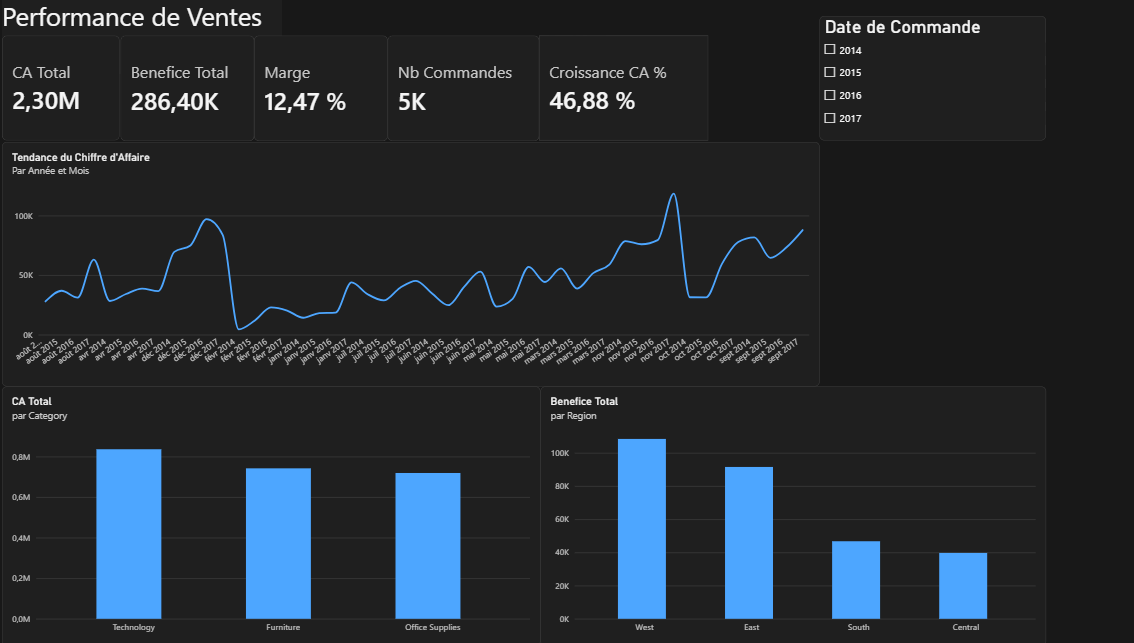

What the dashboard file says about the page in this screenshot:
{"tool":"powerbi","page":{"name":"Vue d'Ensemble","canvas":[1920,1080],"ordinal":0},"visuals":[{"type":"textbox","box":[10,0,466.7,126.7],"z":0},{"type":"cardVisual","fields":{"Data":["Sample - Superstore.CA Total"]},"box":[10,63.3,196.7,175],"z":1000},{"type":"cardVisual","fields":{"Data":["Sample - Superstore.Benefice Total"]},"box":[206.7,63.3,223.3,176.7],"z":2000},{"type":"cardVisual","fields":{"Data":["Sample - Superstore.Marge"]},"box":[430,63.3,223.3,176.7],"z":3000},{"type":"cardVisual","fields":{"Data":["Sample - Superstore.Nb Commandes"]},"box":[653.3,63.3,253.3,176.7],"z":4000},{"type":"lineChart","title":"Tendance du Chiffre d''Affaire","fields":{"Category":["Calendrier.AnnéeMois"],"Y":["Sample - Superstore.CA Total"]},"box":[10,240,1362.5,407.5],"z":5000},{"type":"columnChart","fields":{"Category":["Sample - Superstore.Category"],"Y":["Sample - Superstore.CA Total"]},"box":[10,647.5,897.5,432.5],"z":6000},{"type":"columnChart","fields":{"Category":["Sample - Superstore.Region"],"Y":["Sample - Superstore.Benefice Total"]},"box":[907.5,647.5,842.5,432.5],"z":7000},{"type":"slicer","fields":{"Values":["Calendrier.Année"]},"box":[1372.5,30,377.5,207.5],"z":8000},{"type":"cardVisual","fields":{"Data":["Sample - Superstore.Croissance CA %"]},"box":[905,62.5,282.5,175],"z":9000}]}

Visuals, with their boxes in screenshot pixels (x1, y1, x2, y2), scaled from the page's 1920x1080 canvas onto the 1134x643 screenshot:
textbox: box(6, 0, 282, 75)
cardVisual - Sample - Superstore.CA Total: box(6, 38, 122, 142)
cardVisual - Sample - Superstore.Benefice Total: box(122, 38, 254, 143)
cardVisual - Sample - Superstore.Marge: box(254, 38, 386, 143)
cardVisual - Sample - Superstore.Nb Commandes: box(386, 38, 535, 143)
"Tendance du Chiffre d''Affaire" lineChart: box(6, 143, 811, 386)
columnChart - Sample - Superstore.Category x Sample - Superstore.CA Total: box(6, 386, 536, 642)
columnChart - Sample - Superstore.Region x Sample - Superstore.Benefice Total: box(536, 386, 1034, 642)
slicer - Calendrier.Année: box(811, 18, 1034, 141)
cardVisual - Sample - Superstore.Croissance CA %: box(535, 37, 701, 141)
